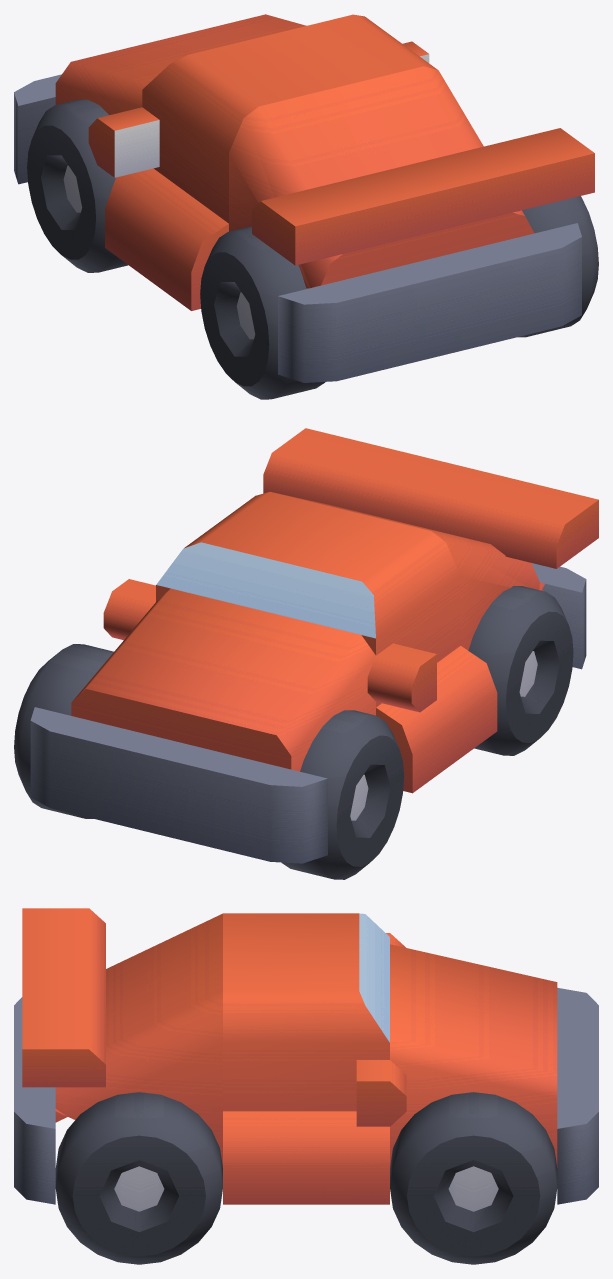
The model's file is urban.vehicle_proxy.toy_vehicle_racer_low_01.glb.
3 renders of one model, top to bottom at view 1: azimuth 30°, elevation 25°; view 2: azimuth 150°, elevation 25°; view 3: azimuth 270°, elevation 25°, orthographic. The views are drawn at different scales.
Parts seen in each view (by area): view 1: vehicle-racer-low, wheel-bl, wheel-fl, wheel-br; view 2: vehicle-racer-low, wheel-bl, wheel-fl, wheel-fr; view 3: vehicle-racer-low, wheel-fr, wheel-br.
Part boxes in pixels (x1,y1,x2,y2): vehicle-racer-low: (14,14,594,382); wheel-bl: (200,226,325,399); wheel-fl: (27,99,128,272); wheel-br: (518,196,598,337); vehicle-racer-low: (30,428,598,863); wheel-bl: (468,586,573,755); wheel-fl: (281,710,404,879); wheel-fr: (14,644,113,818); vehicle-racer-low: (14,908,598,1204); wheel-fr: (390,1092,557,1264); wheel-br: (55,1092,222,1264).
Bounding box in the file's own units: 0.5625 × 0.3875 × 0.875.
Materials: 1 (1 with a texture image).
